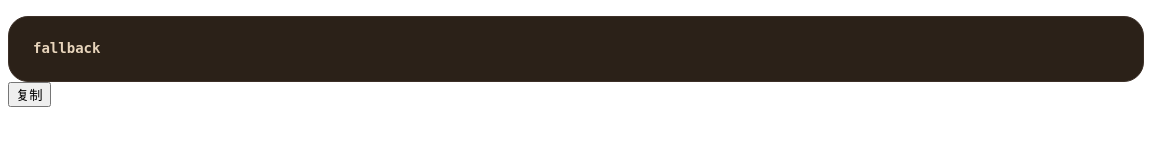
Test case: CodeBlock › Clipboard API 不可用时使用兼容复制方案
Click the button with aria-label "复制代码": (29,94) x1=8 y1=82 x2=51 y2=107
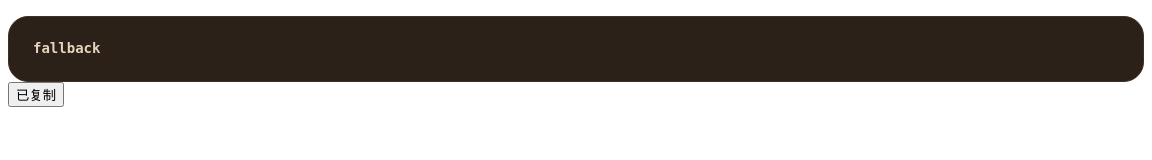
Now the button with aria-label "代码已复制" is shown, box x1=8 y1=82 x2=64 y2=107
